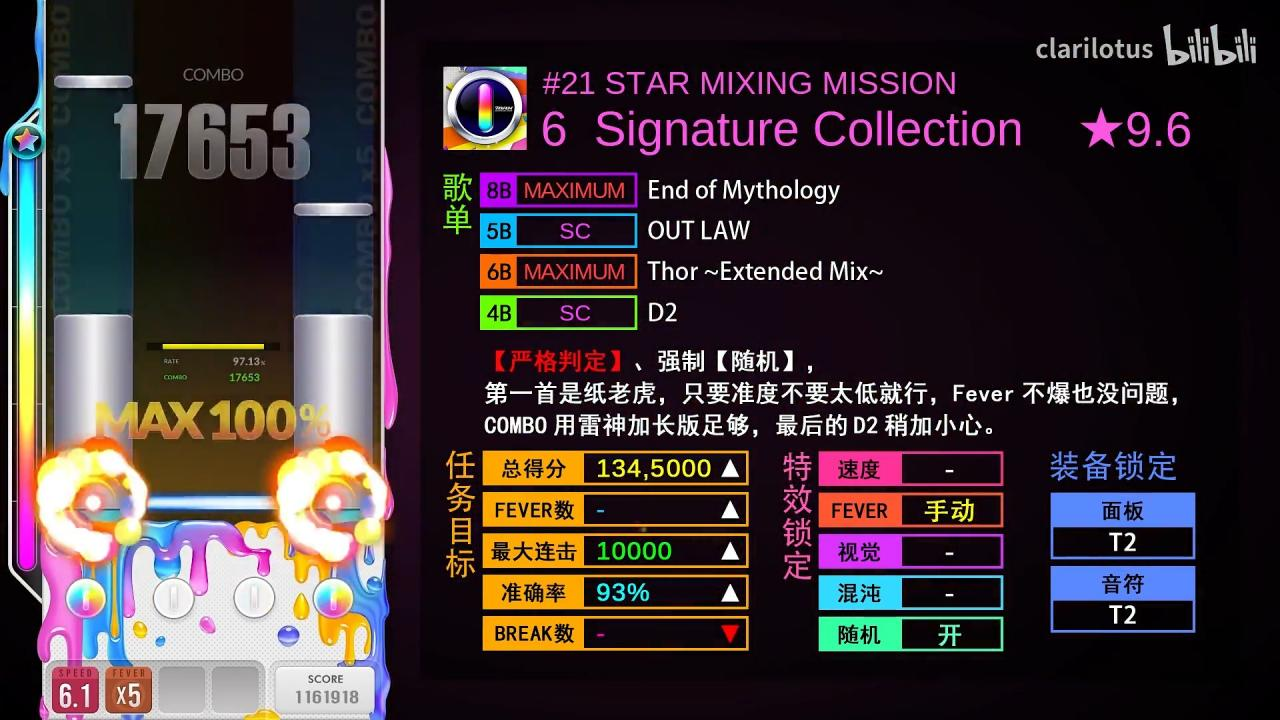hold-end: (294, 314, 373, 330), (53, 314, 133, 327)
note: (294, 202, 373, 217), (54, 75, 133, 89)
